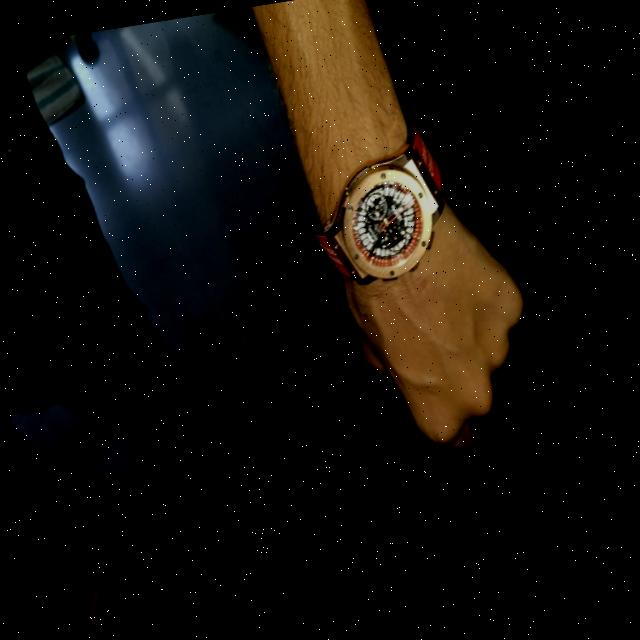Wrist watch: (292, 110, 458, 293)
